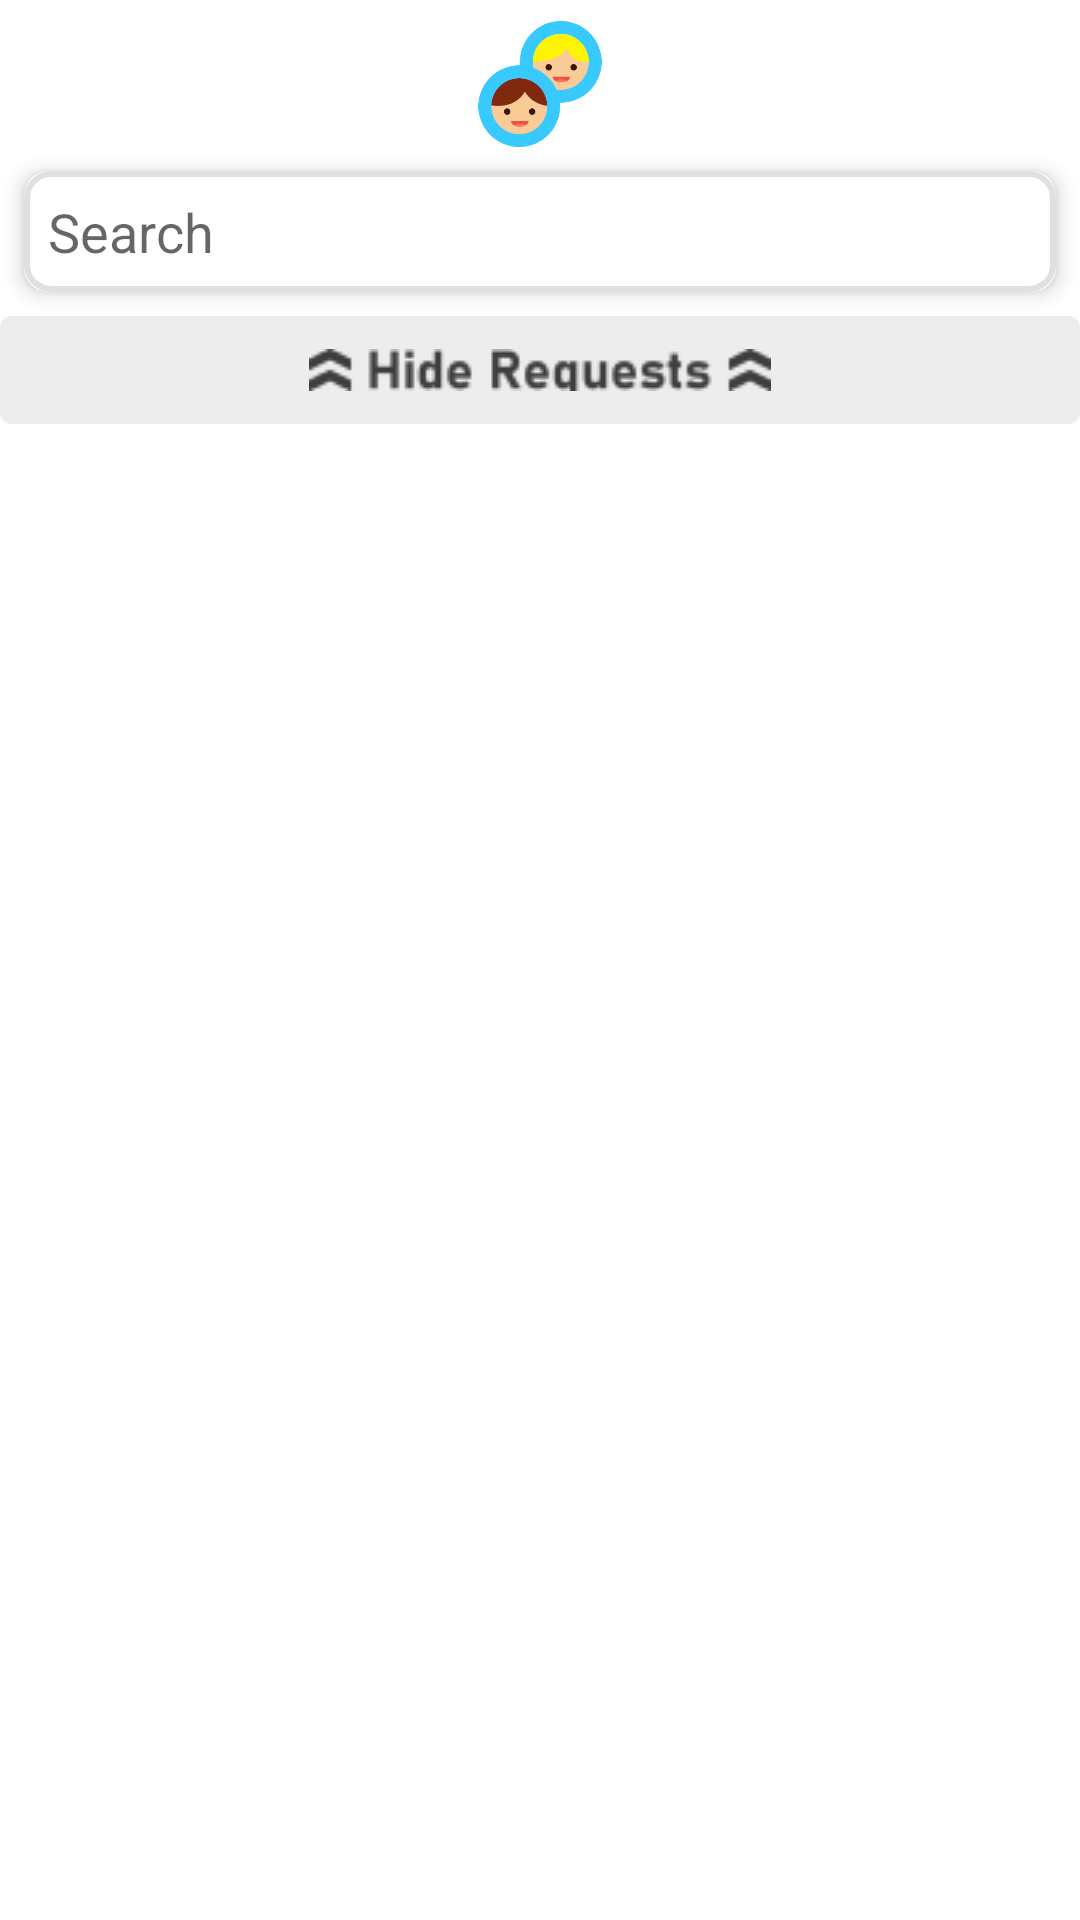

Icon click points for this 1080px x 1920px phone screenshot, format (x,y):
friends: (540,84)
